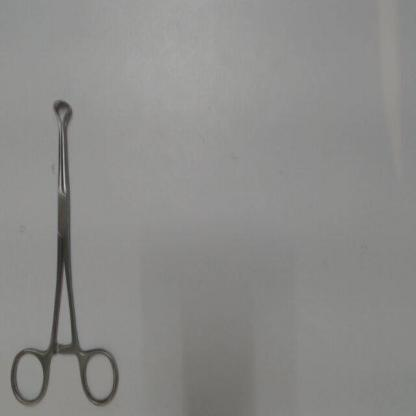Babcock Tissue Forceps: (7, 86, 126, 412)
